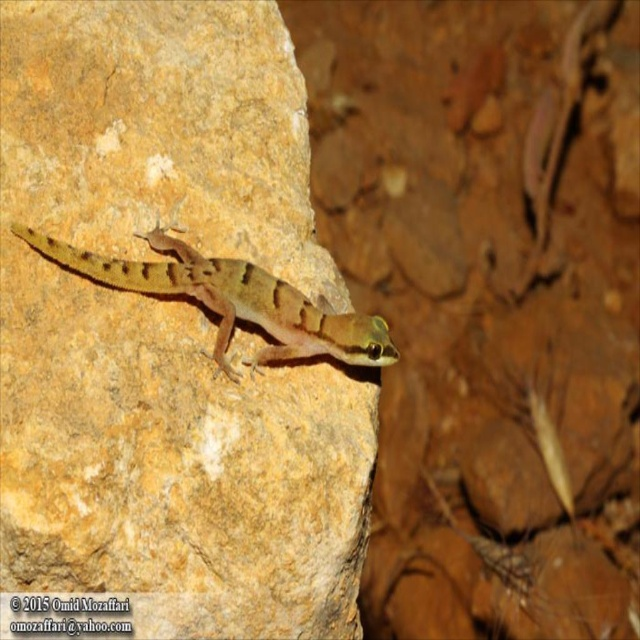Lizard: (9, 209, 400, 380)
